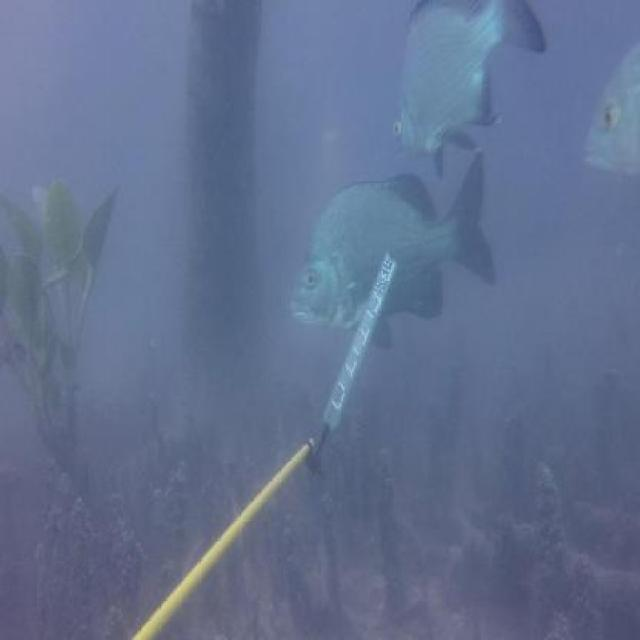Caranx: (578, 37, 640, 186)
acanthopagrus_palmaris: (290, 147, 498, 350), (388, 3, 549, 175)
